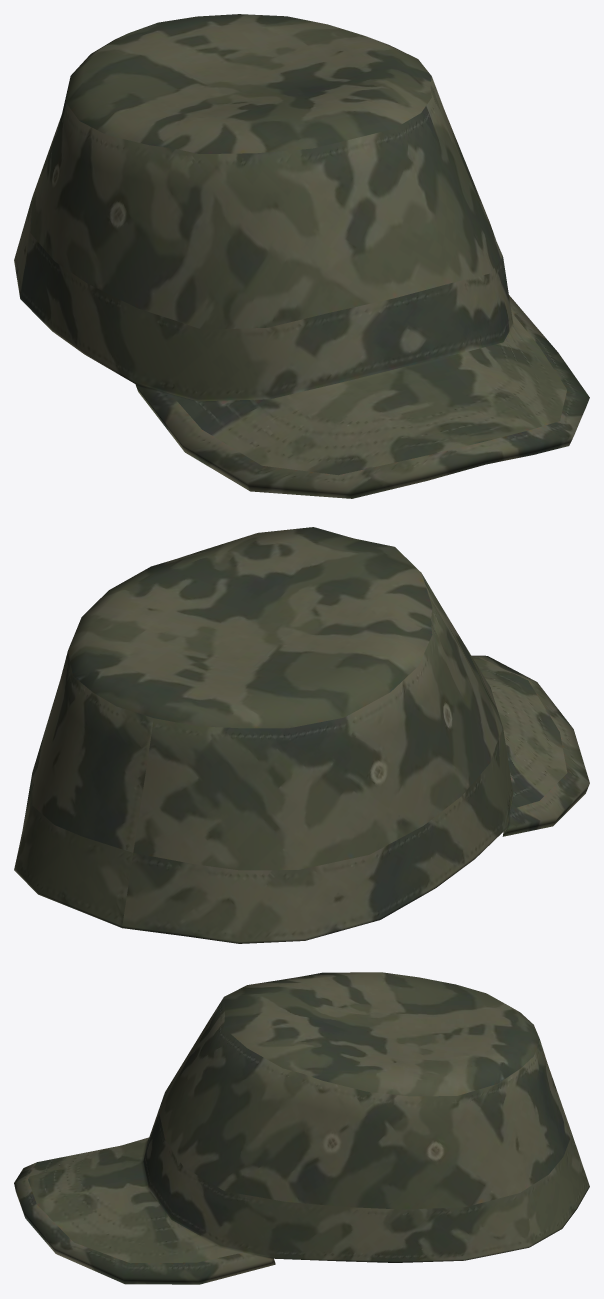
Rendered from mindfront-patrol-cap.glb.
The picture shows the model from 3 angles, top to bottom: view 1: azimuth 30°, elevation 25°; view 2: azimuth 150°, elevation 25°; view 3: azimuth 270°, elevation 25°; orthographic projection. The views are drawn at different scales.
Parts seen in each view (by area): view 1: Human.mindfront_patrol_cap; view 2: Human.mindfront_patrol_cap; view 3: Human.mindfront_patrol_cap.
Part boxes in pixels (x1,y1,x2,y2): Human.mindfront_patrol_cap: [14, 14, 589, 498]; Human.mindfront_patrol_cap: [14, 527, 589, 943]; Human.mindfront_patrol_cap: [14, 972, 589, 1284].
Bounding box in the file's own units: 0.1505 × 0.1001 × 0.2453.
1 material, 1 textured.
